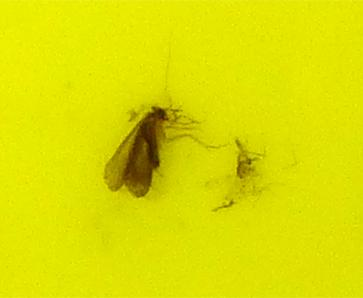Nematocera: (229, 138, 263, 188)
Trichoptera: (100, 100, 193, 198)
